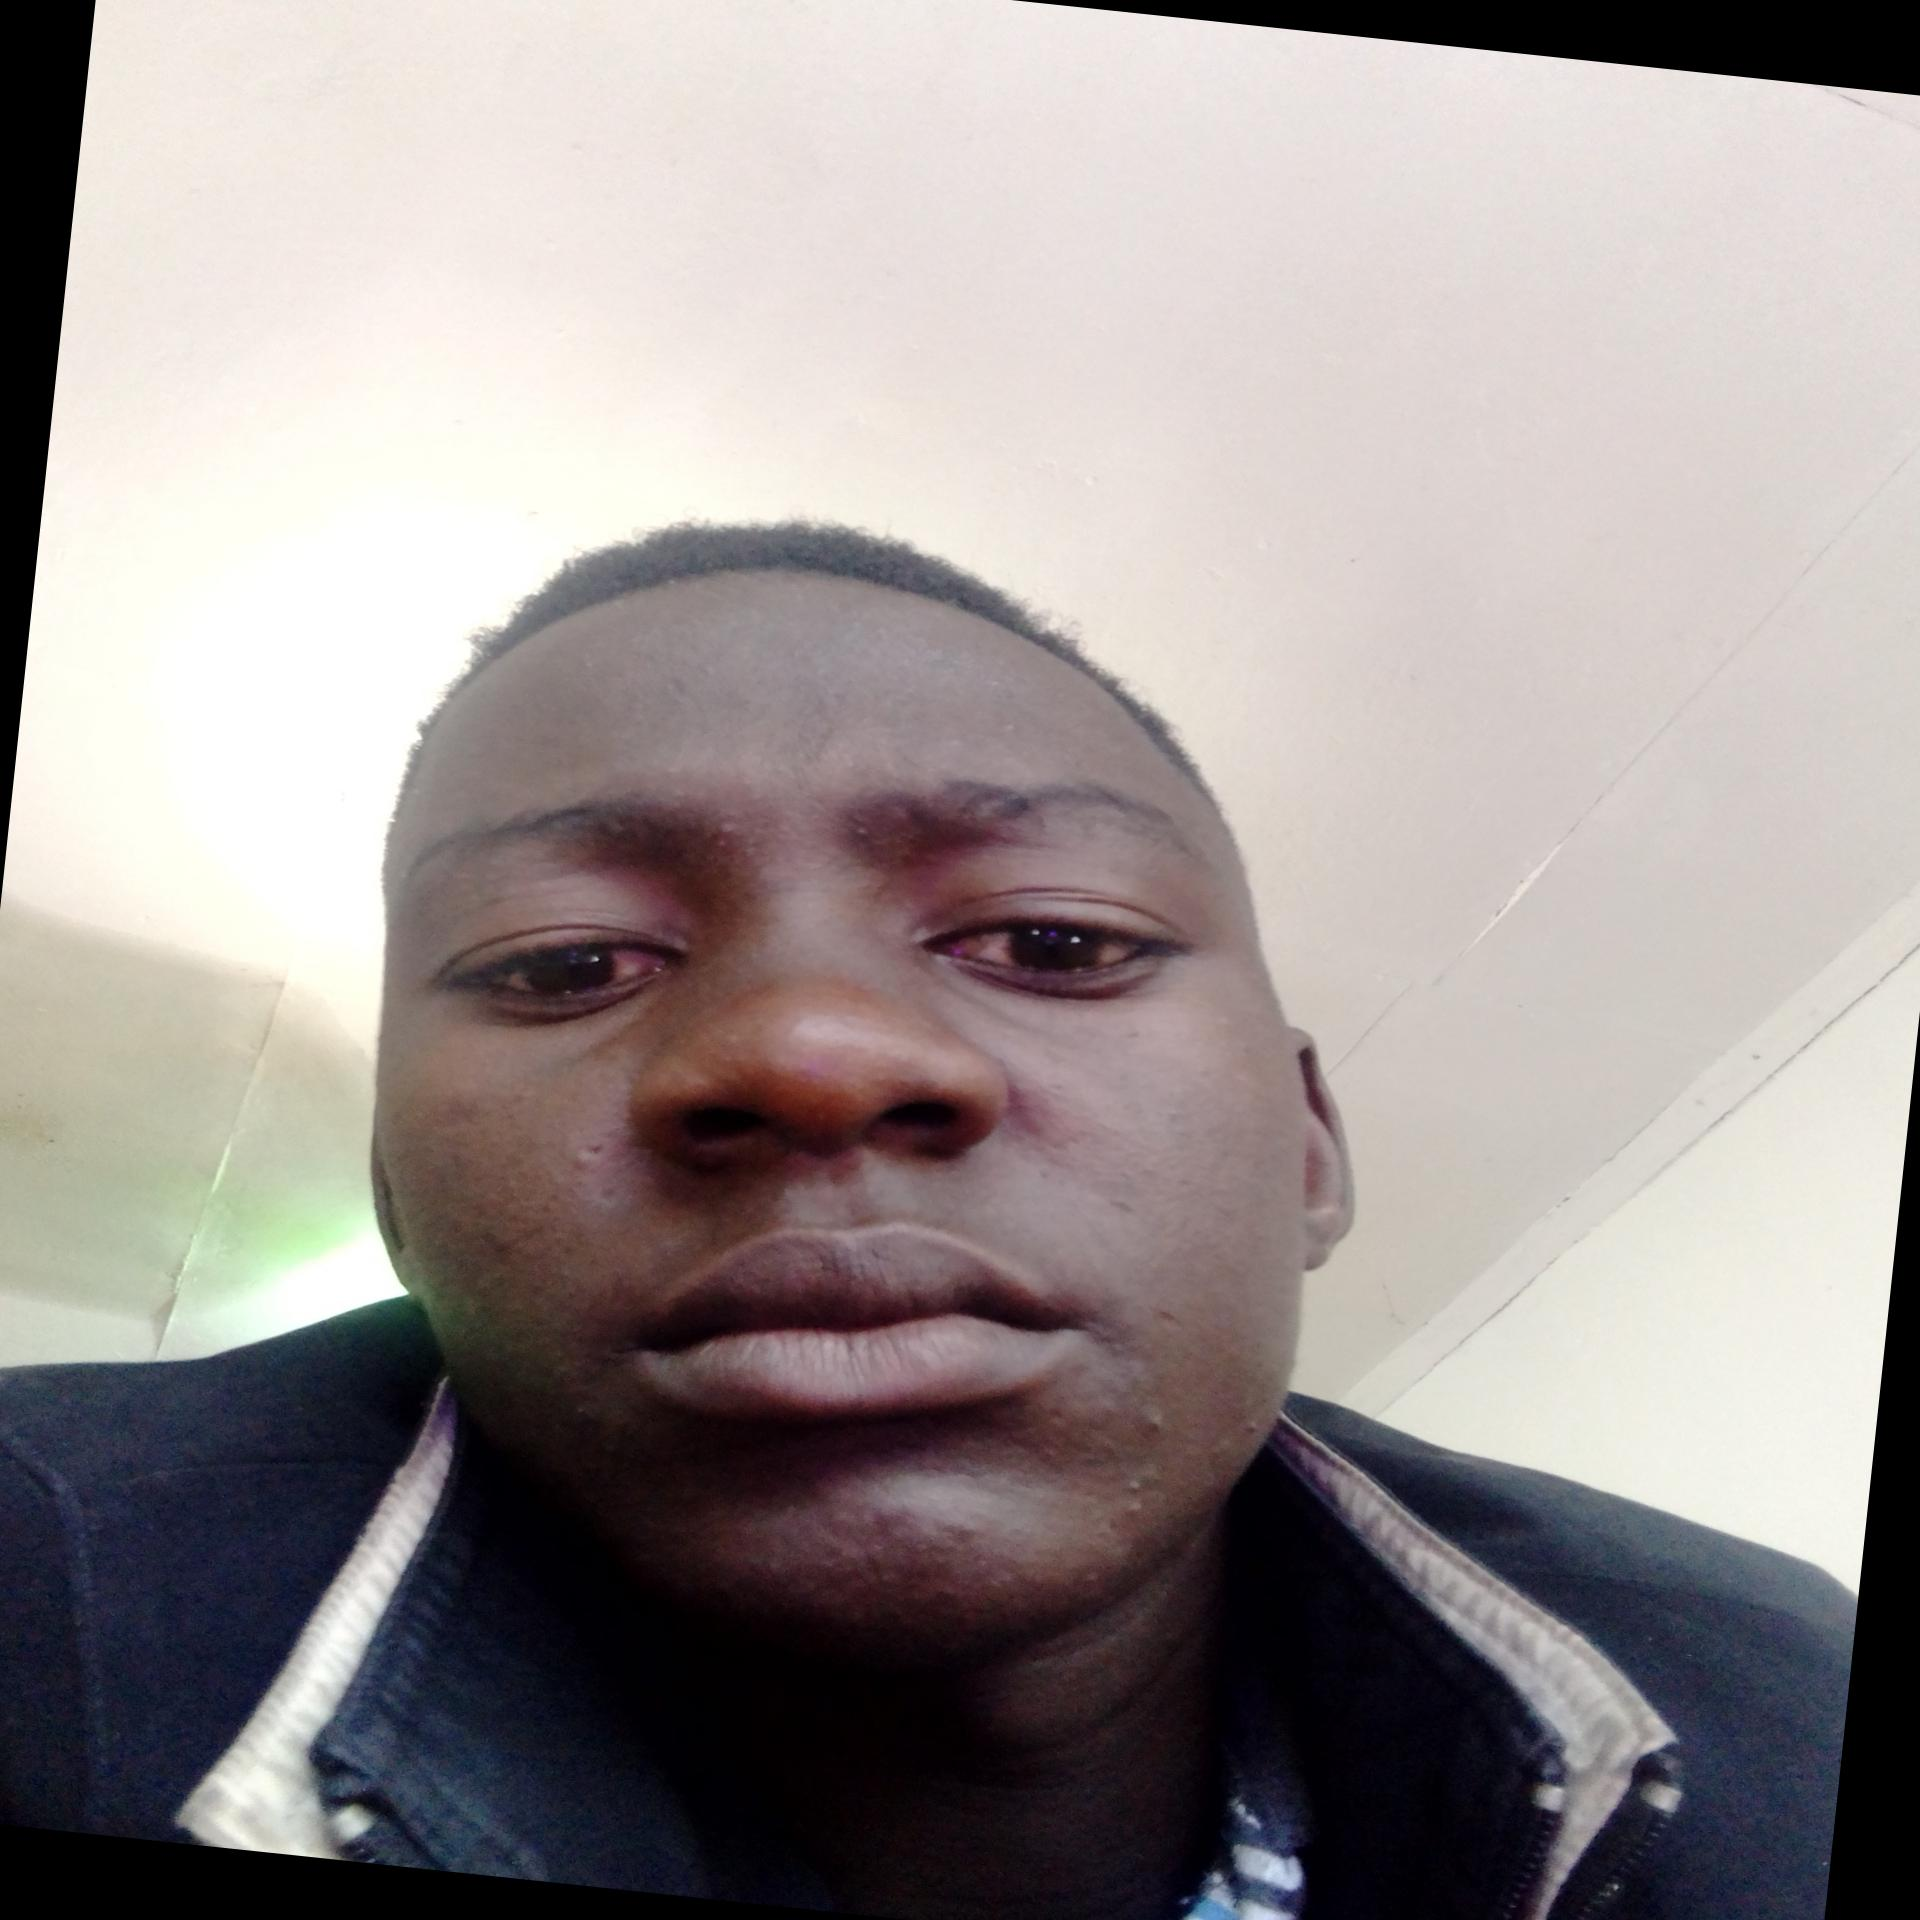Acne: (1201, 1414, 1264, 1458), (934, 1514, 986, 1558), (1116, 1477, 1152, 1521), (568, 1138, 605, 1173), (703, 814, 738, 844), (1138, 1401, 1166, 1438), (1162, 1102, 1190, 1139)
